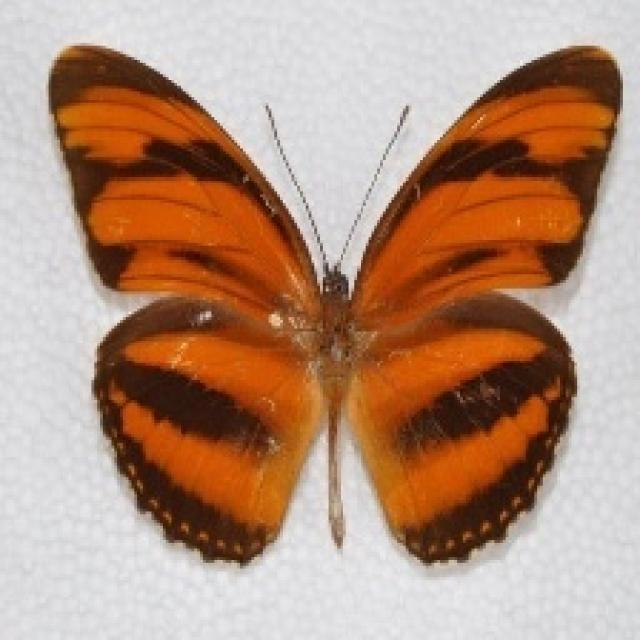butterfly: (46, 37, 623, 569)
